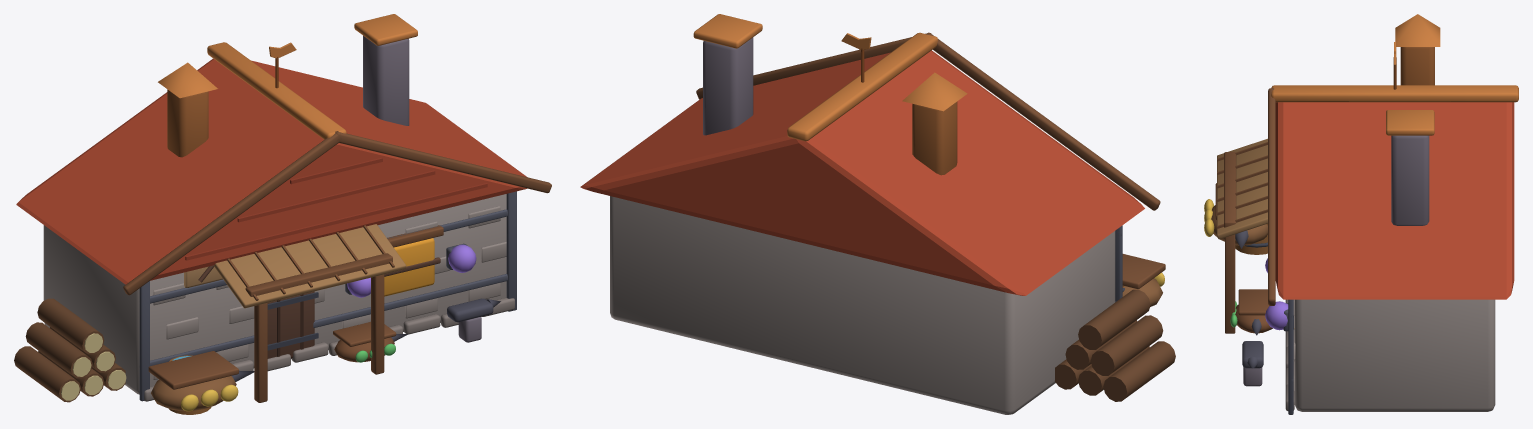
The model's file is forge3.glb.
The picture shows the model from 3 angles, left to right: view 1: azimuth 30°, elevation 25°; view 2: azimuth 150°, elevation 25°; view 3: azimuth 270°, elevation 25°; orthographic projection. The views are drawn at different scales.
Parts seen in each view (by area): view 1: base, pine-fuel, iron-bands, golem-core; view 2: base, pine-fuel, iron-bands; view 3: base, iron-bands, golem-core, pine-fuel.
Boxes of the visible parts, left/top/right/bottom form: base: left=16, top=14, right=551, bottom=411; pine-fuel: left=14, top=298, right=211, bottom=414; iron-bands: left=139, top=191, right=516, bottom=401; golem-core: left=345, top=243, right=476, bottom=297; base: left=580, top=14, right=1165, bottom=414; pine-fuel: left=1055, top=285, right=1175, bottom=401; iron-bands: left=1115, top=225, right=1124, bottom=301; base: left=1204, top=14, right=1518, bottom=411; iron-bands: left=1244, top=242, right=1293, bottom=414; golem-core: left=1265, top=258, right=1293, bottom=331; pine-fuel: left=1235, top=223, right=1267, bottom=254.
Size of the model in its own units: 7.2 by 4.03 by 4.14.
